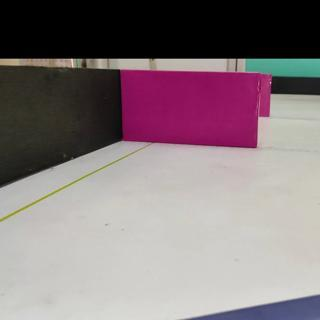xparking: (123, 74, 256, 141)
